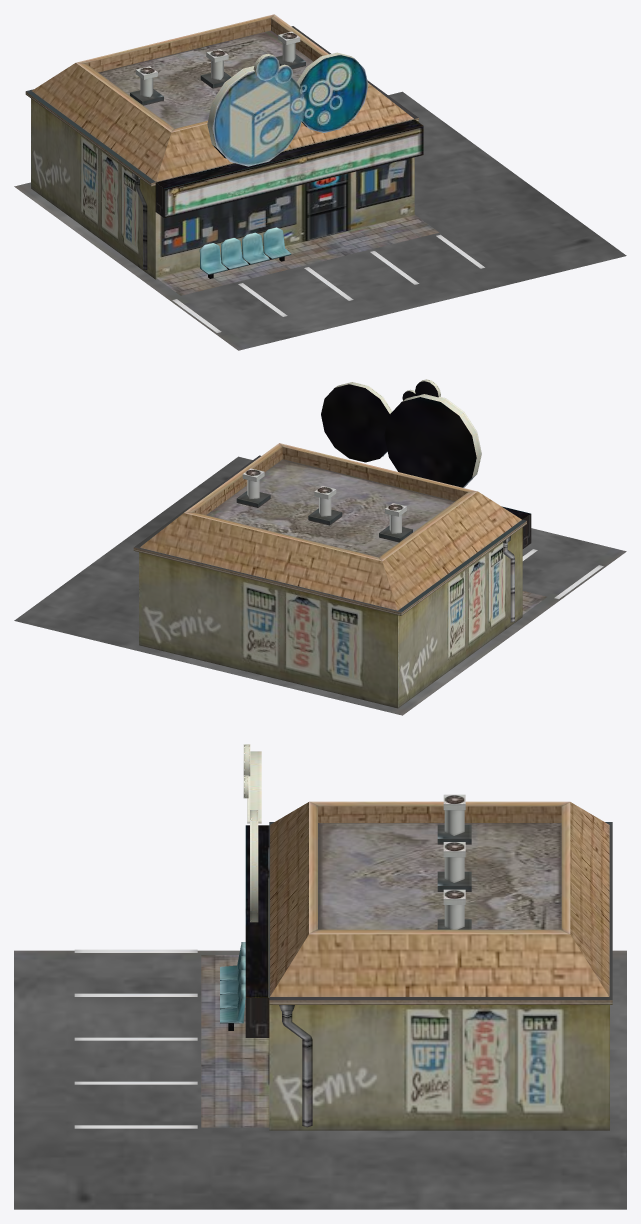
File: market.glb
3 views of the same model, one above another, from view 1: azimuth 30°, elevation 25°; view 2: azimuth 150°, elevation 25°; view 3: azimuth 270°, elevation 25° (orthographic). The views are drawn at different scales.
Parts seen in each view (by area): view 1: LM_Laundrette_pasted__pCube65, pasted__BD_Block86, pasted__pCylinder8, pasted__polySurface254, pasted__pPlane94, pasted__pCylinder9, pasted__polySurface255, pasted__pCube81, pasted__pCube80, pasted__pCube67, pasted__pCube79, pasted__pCylinder10; view 2: LM_Laundrette_pasted__pCube65, pasted__BD_Block86, pasted__polySurface254, pasted__pCylinder8, pasted__pCylinder9, pasted__polySurface255; view 3: LM_Laundrette_pasted__pCube65, pasted__BD_Block86, pasted__polySurface254, pasted__pPlane94, pasted__polySurface255, pasted__pCylinder7, pasted__pCylinder9, pasted__pCylinder8.
Part boxes in pixels (box(x1,y1,x2,y2)): LM_Laundrette_pasted__pCube65: box(31, 14, 423, 279); pasted__BD_Block86: box(14, 91, 626, 350); pasted__pCylinder8: box(207, 66, 304, 166); pasted__polySurface254: box(98, 30, 313, 128); pasted__pPlane94: box(156, 214, 438, 295); pasted__pCylinder9: box(297, 52, 368, 132); pasted__polySurface255: box(25, 26, 418, 186); pasted__pCube81: box(263, 227, 291, 259); pasted__pCube80: box(242, 232, 269, 264); pasted__pCube67: box(199, 243, 227, 274); pasted__pCube79: box(221, 238, 248, 269); pasted__pCylinder10: box(253, 54, 279, 80); LM_Laundrette_pasted__pCube65: box(139, 443, 531, 708); pasted__BD_Block86: box(14, 456, 626, 715); pasted__polySurface254: box(206, 459, 454, 557); pasted__pCylinder8: box(384, 394, 481, 487); pasted__pCylinder9: box(321, 382, 392, 462); pasted__polySurface255: box(133, 455, 526, 615); LM_Laundrette_pasted__pCube65: box(245, 801, 609, 1130); pasted__BD_Block86: box(14, 950, 626, 1209); pasted__polySurface254: box(318, 823, 561, 929); pasted__pPlane94: box(201, 955, 269, 1127); pasted__polySurface255: box(269, 822, 612, 1004); pasted__pCylinder7: box(282, 1011, 312, 1127); pasted__pCylinder9: box(250, 810, 258, 922); pasted__pCylinder8: box(247, 751, 261, 823).
Bounding box in the file's own units: 1800 × 909 × 1800.
1 material, 1 textured.
